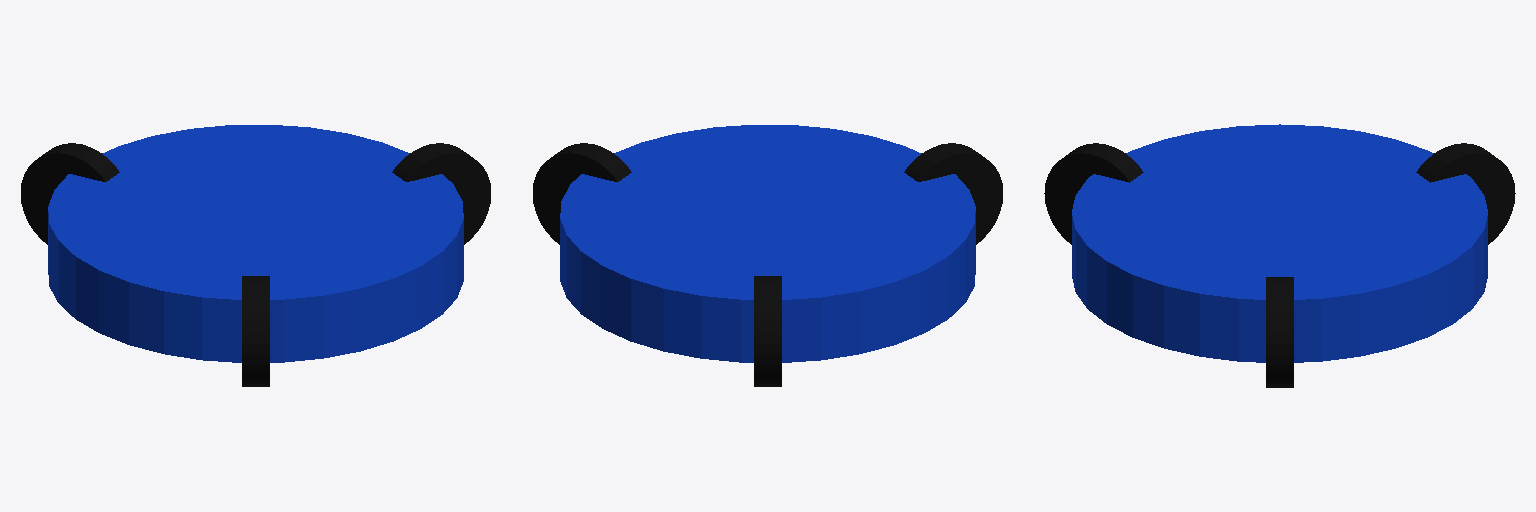
robot.urdf — lekiwi_robot:
<?xml version="1.0"?>

<robot name="lekiwi_robot">
  <!-- ===================== -->
  <!-- Materials             -->
  <!-- ===================== -->

  <material name="base_color">
    <color rgba="0.1 0.3 0.8 1"/>
  </material>

  <material name="wheel_color">
    <color rgba="0.1 0.1 0.1 1"/>
  </material>
  
  <!-- ===================== -->
  <!-- Base Link             -->
  <!-- ===================== -->

  <link name="base_link">

    <visual>
      <geometry>
        <cylinder radius="0.15" length="0.05"/>
      </geometry>
      <material name="base_color"/>
    </visual>

    <collision>
      <geometry>
        <cylinder radius="0.15" length="0.05"/>
      </geometry>
    </collision>

    <inertial>
      <mass value="2.0"/>
      <origin xyz="0 0 0"/>
      <inertia
        ixx="0.01"
        ixy="0"
        ixz="0"
        iyy="0.01"
        iyz="0"
        izz="0.02"/>
    </inertial>

  </link>

  <!-- ===================== -->
  <!-- Wheel 1 Front         -->
  <!-- ===================== -->

  <link name="wheel_1">

    <visual>
      <origin rpy="1.5708 0 0"/>
      <geometry>
        <cylinder radius="0.04" length="0.02"/>
      </geometry>
      <material name="wheel_color"/>
    </visual>

    <collision>
      <origin rpy="1.5708 0 0"/>
      <geometry>
        <cylinder radius="0.04" length="0.02"/>
      </geometry>
    </collision>

    <inertial>
      <mass value="0.2"/>
      <origin xyz="0 0 0"/>
      <inertia
        ixx="0.0001"
        ixy="0"
        ixz="0"
        iyy="0.0001"
        iyz="0"
        izz="0.0002"/>
    </inertial>

  </link>

  <joint name="wheel_1_joint" type="continuous">
    <parent link="base_link"/>
    <child link="wheel_1"/>
    <origin xyz="0.15 0 0"
        rpy="0 0 0"/>
    <axis xyz="0 1 0"/>
  </joint>

  <!-- ===================== -->
  <!-- Wheel 2 Left Rear     -->
  <!-- ===================== -->

  <link name="wheel_2">

    <visual>
      <origin rpy="1.5708 0 0"/>
      <geometry>
        <cylinder radius="0.04" length="0.02"/>
      </geometry>
      <material name="wheel_color"/>
    </visual>

    <collision>
      <origin rpy="1.5708 0 0"/>
      <geometry>
        <cylinder radius="0.04" length="0.02"/>
      </geometry>
    </collision>

    <inertial>
      <mass value="0.2"/>
      <origin xyz="0 0 0"/>
      <inertia
        ixx="0.0001"
        ixy="0"
        ixz="0"
        iyy="0.0001"
        iyz="0"
        izz="0.0002"/>
    </inertial>

  </link>

  <joint name="wheel_2_joint" type="continuous">
    <parent link="base_link"/>
    <child link="wheel_2"/>
    <origin xyz="-0.075 0.1299 0"
        rpy="0 0 2.0944"/>
    <axis xyz="0 1 0"/>
  </joint>

  <!-- ===================== -->
  <!-- Wheel 3 Right Rear    -->
  <!-- ===================== -->

  <link name="wheel_3">

    <visual>
      <origin rpy="1.5708 0 0"/>
      <geometry>
        <cylinder radius="0.04" length="0.02"/>
      </geometry>
      <material name="wheel_color"/>
    </visual>

    <collision>
      <origin rpy="1.5708 0 0"/>
      <geometry>
        <cylinder radius="0.04" length="0.02"/>
      </geometry>
    </collision>

    <inertial>
      <mass value="0.2"/>
      <origin xyz="0 0 0"/>
      <inertia
        ixx="0.0001"
        ixy="0"
        ixz="0"
        iyy="0.0001"
        iyz="0"
        izz="0.0002"/>
    </inertial>

  </link>

  <joint name="wheel_3_joint" type="continuous">
    <parent link="base_link"/>
    <child link="wheel_3"/>
    <origin xyz="-0.075 -0.1299 0"
        rpy="0 0 -2.0944"/>
    <axis xyz="0 1 0"/>
  </joint>

</robot>

--- What the picture shows (computed from the rendered views, not written in the file) ---
The picture shows the robot from 3 angles, left to right: view 1: azimuth 30°, elevation 25°; view 2: azimuth 150°, elevation 25°; view 3: azimuth 270°, elevation 25°; orthographic projection.
Model lekiwi_robot with 4 links and 3 joints (3 continuous), rooted at base_link, posed every joint at zero.
Links seen in each view (by area): view 1: base_link, wheel_1, wheel_2, wheel_3; view 2: base_link, wheel_1, wheel_3, wheel_2; view 3: base_link, wheel_2, wheel_3, wheel_1.
Boxes of the visible links, bbox=[...] form: base_link: bbox=[48, 125, 463, 362]; wheel_1: bbox=[392, 143, 490, 244]; wheel_2: bbox=[21, 143, 119, 244]; wheel_3: bbox=[242, 276, 269, 386]; base_link: bbox=[560, 125, 975, 362]; wheel_1: bbox=[533, 143, 631, 244]; wheel_3: bbox=[904, 143, 1002, 244]; wheel_2: bbox=[754, 276, 781, 386]; base_link: bbox=[1072, 124, 1487, 362]; wheel_2: bbox=[1416, 143, 1515, 244]; wheel_3: bbox=[1044, 143, 1143, 244]; wheel_1: bbox=[1266, 277, 1293, 387].
Size in the robot's own frame: 0.34 by 0.3391 by 0.08 metres.
Geometry: primitives only (box / cylinder / sphere), no mesh files.
